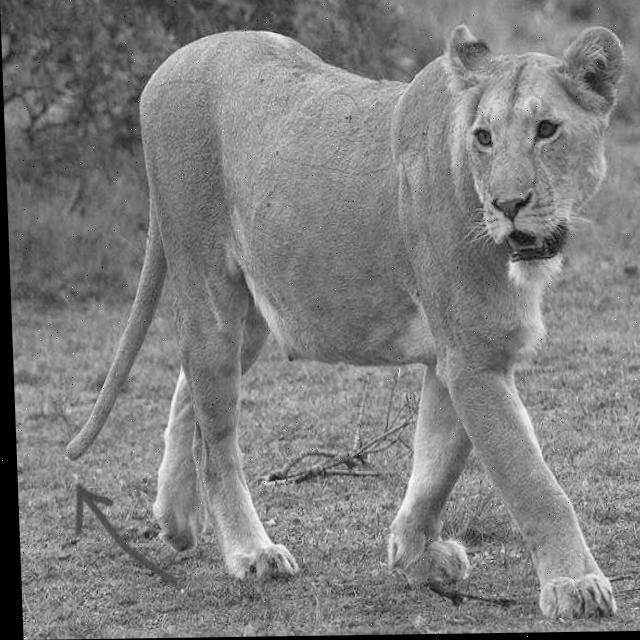Lion: (279, 15, 640, 544)
